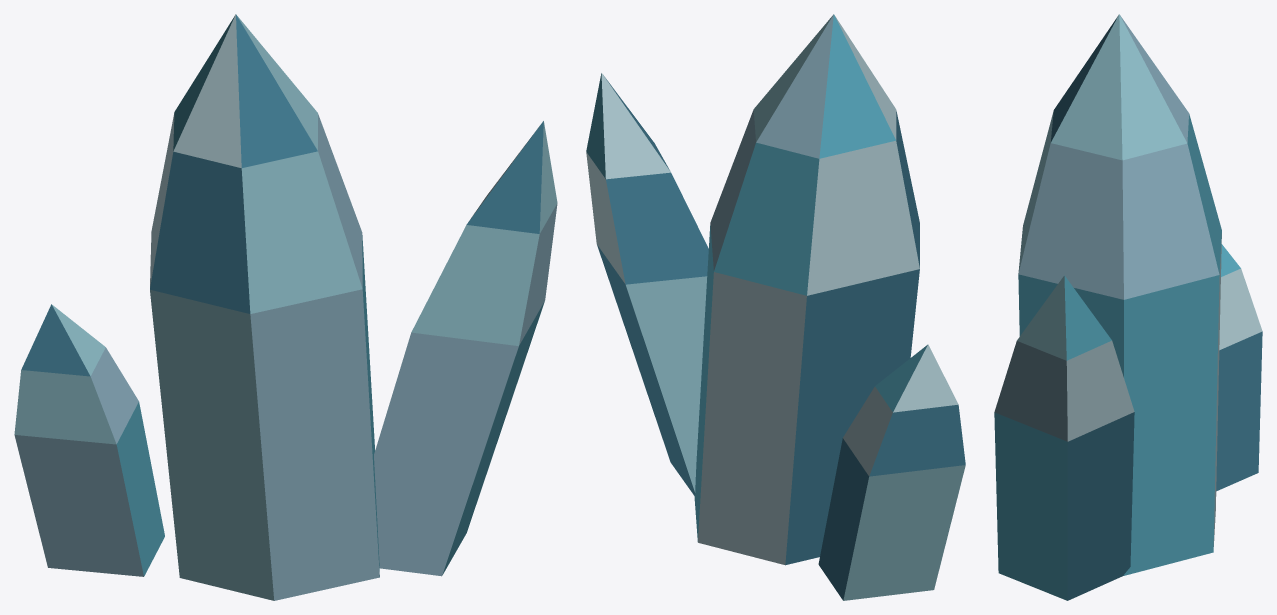
Rendered from split-shards.glb.
3 views of the same model, side by side, from view 1: azimuth 30°, elevation 25°; view 2: azimuth 150°, elevation 25°; view 3: azimuth 270°, elevation 25° (orthographic). The views are drawn at different scales.
Visible parts, largest first — view 1: split-shards; view 2: split-shards; view 3: split-shards.
Boxes of the visible parts, left/top/right/bottom form: split-shards: left=14, top=14, right=557, bottom=600; split-shards: left=586, top=14, right=965, bottom=600; split-shards: left=994, top=14, right=1262, bottom=600.
Size of the model in its own units: 3.26 by 3.6 by 1.76.
